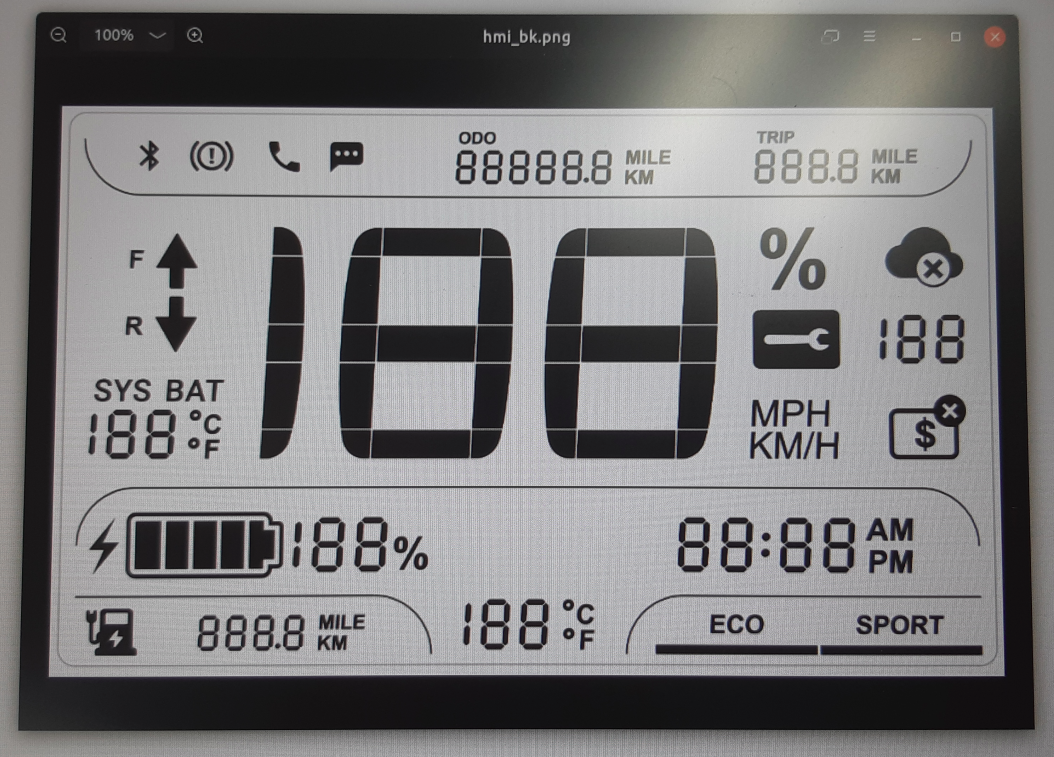bluetooth_on: (134, 136, 166, 174)
braking_on: (186, 135, 239, 175)
calling_on: (263, 137, 308, 178)
connection_lost: (883, 224, 966, 289)
error_code: (745, 305, 846, 372)
low_battery: (83, 603, 141, 660)
sms_on: (323, 135, 367, 175)
vin_id: (884, 391, 969, 463)
